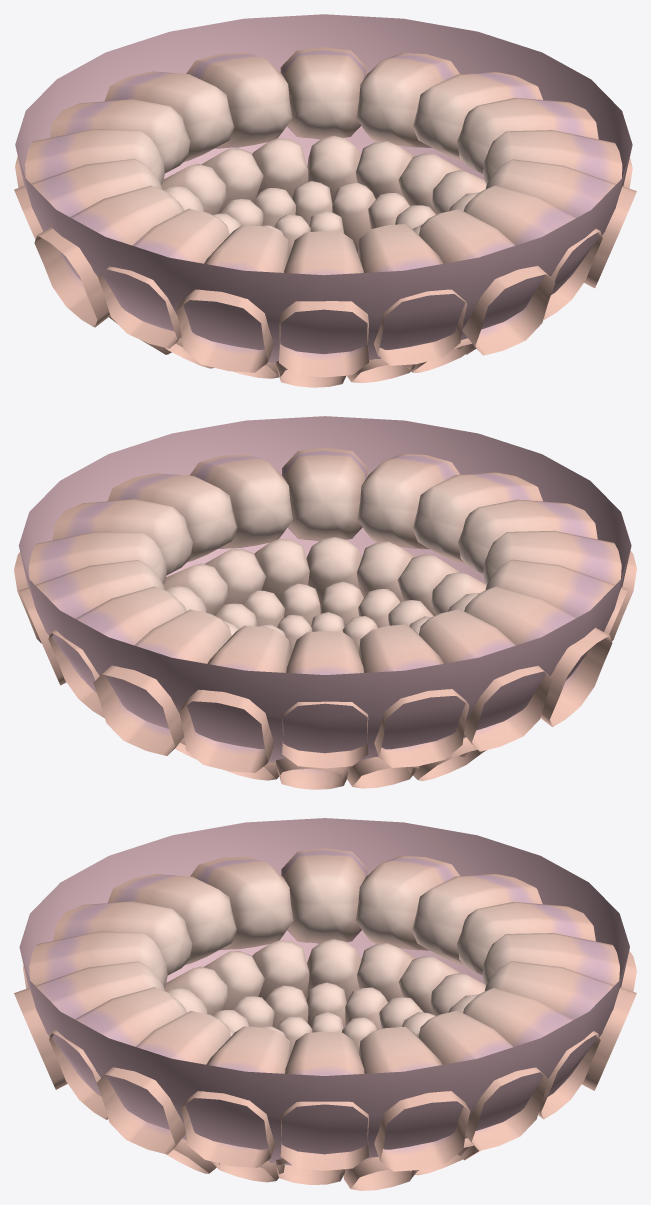
File: Crypt_Base.fbx
The picture shows the model from 3 angles, top to bottom: view 1: azimuth 30°, elevation 25°; view 2: azimuth 150°, elevation 25°; view 3: azimuth 270°, elevation 25°; orthographic projection.
Parts seen in each view (by area): view 1: Crypt_Base; view 2: Crypt_Base; view 3: Crypt_Base.
Boxes of the visible parts, x1,y1,x2,y2 form: Crypt_Base: [14, 14, 636, 387]; Crypt_Base: [14, 416, 636, 789]; Crypt_Base: [14, 818, 636, 1190].
Size of the model in its own units: 6.38 by 2.06 by 6.44.
